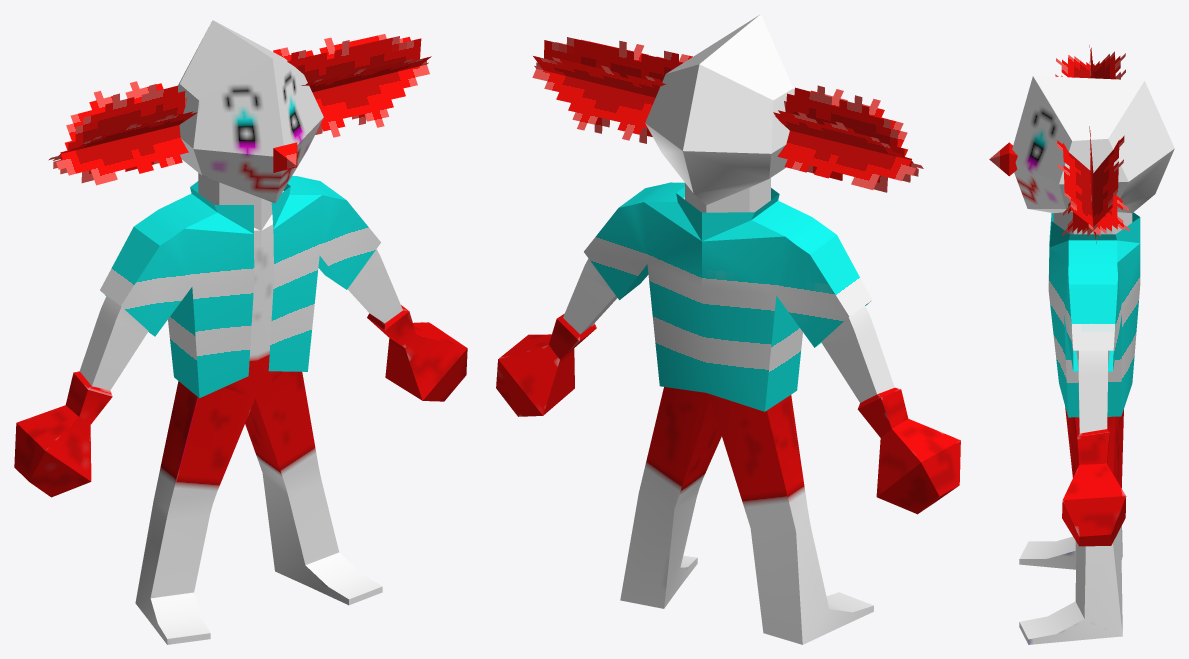
File: Palhaço1.fbx
The picture shows the model from 3 angles, left to right: view 1: azimuth 30°, elevation 25°; view 2: azimuth 150°, elevation 25°; view 3: azimuth 270°, elevation 25°; orthographic projection. The views are drawn at different scales.
Parts seen in each view (by area): view 1: Personagem1; view 2: Personagem1; view 3: Personagem1.
Boxes of the visible parts, x1,y1,x2,y2 form: Personagem1: (14, 20, 467, 644); Personagem1: (496, 14, 960, 644); Personagem1: (989, 45, 1174, 644).
Size of the model in its own units: 126 by 153 by 49.65.
3 materials, 3 textured.
